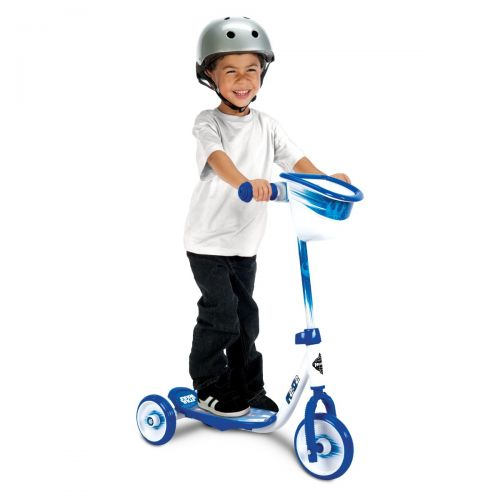scooter: (134, 171, 363, 481)
with helmet: (194, 14, 277, 110)
